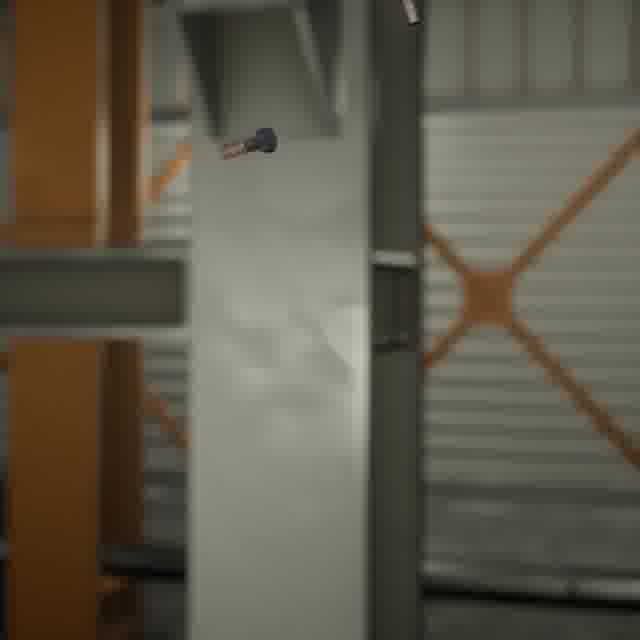bolt: (214, 122, 281, 163), (394, 0, 424, 30)
